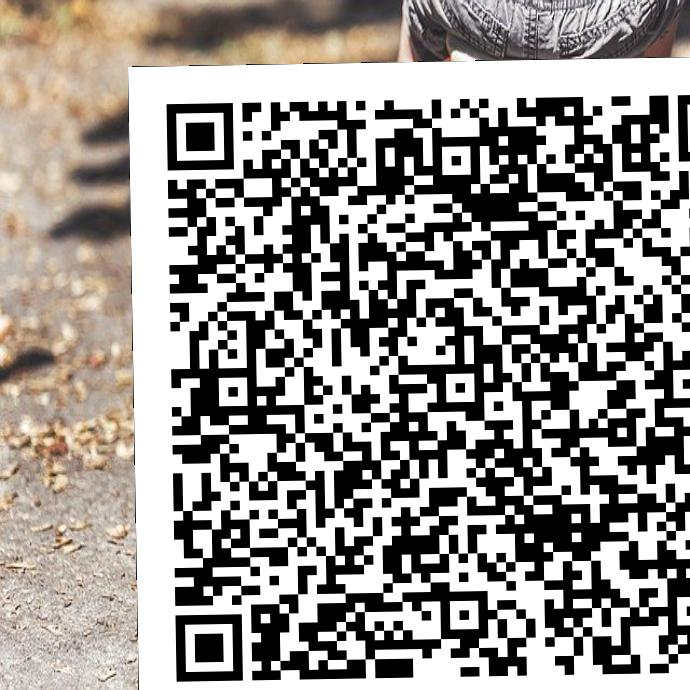qr_code: (128, 93, 689, 654)
